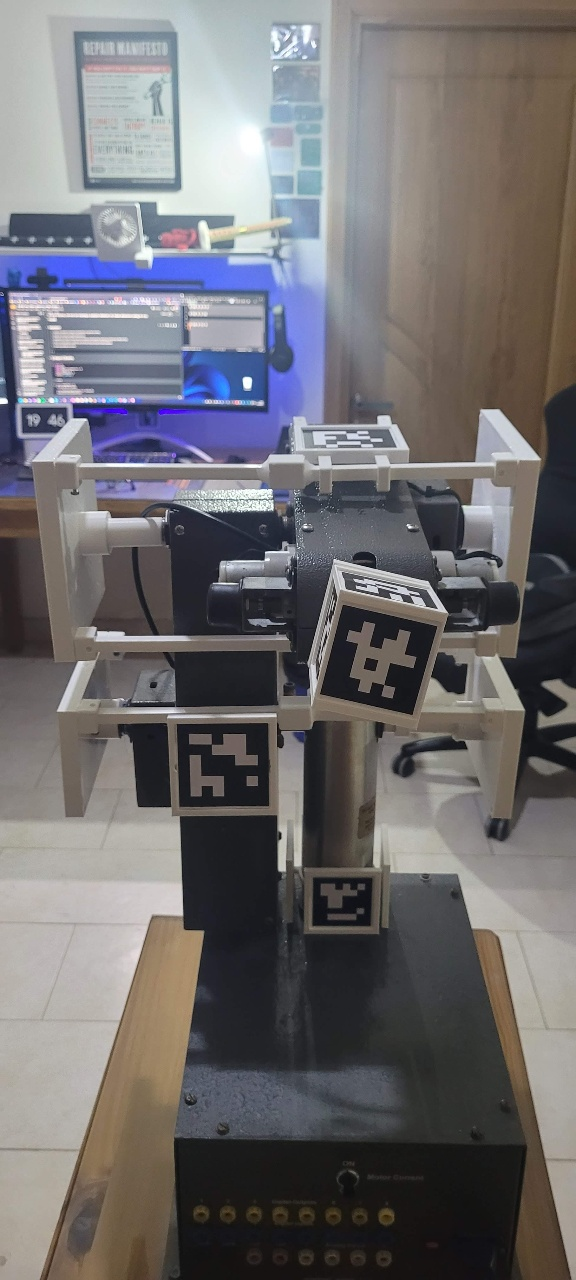Robot: (28, 407, 545, 939)
